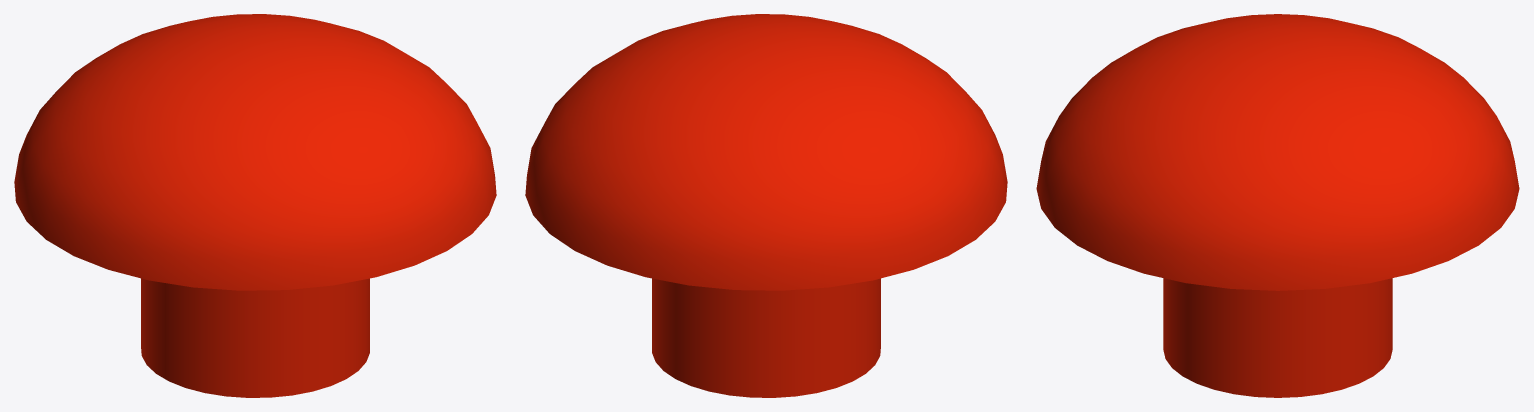
The model's file is switch_button.fbx.
3 views of the same model, side by side, from view 1: azimuth 30°, elevation 25°; view 2: azimuth 150°, elevation 25°; view 3: azimuth 270°, elevation 25° (orthographic).
Parts seen in each view (by area): view 1: button_a; view 2: button_a; view 3: button_a.
Part boxes in pixels (x1,y1,x2,y2): button_a: [14, 14, 496, 397]; button_a: [525, 14, 1007, 397]; button_a: [1036, 14, 1519, 397].
Bounding box in the file's own units: 16.37 × 11.33 × 16.37.
